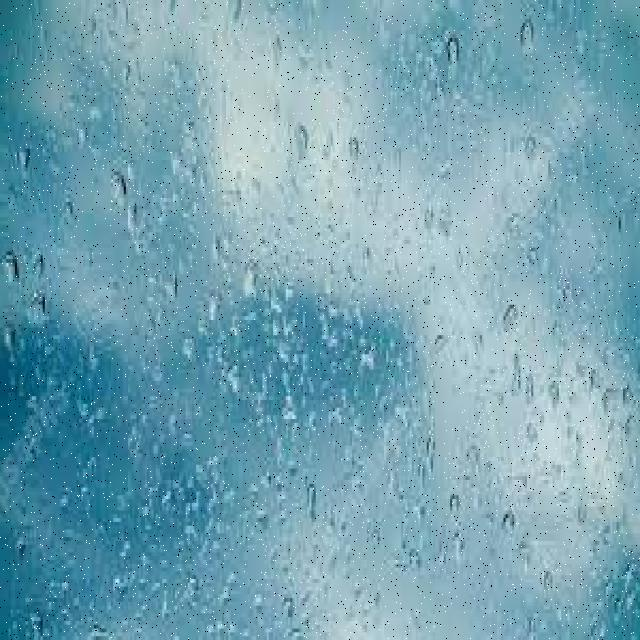raindrop: (22, 270, 56, 332), (2, 125, 38, 183), (0, 230, 29, 300), (512, 5, 540, 72), (234, 256, 262, 320), (0, 305, 24, 374), (105, 163, 133, 220), (441, 26, 468, 80), (494, 290, 520, 346), (300, 477, 324, 537), (292, 108, 314, 170), (495, 498, 522, 548)
